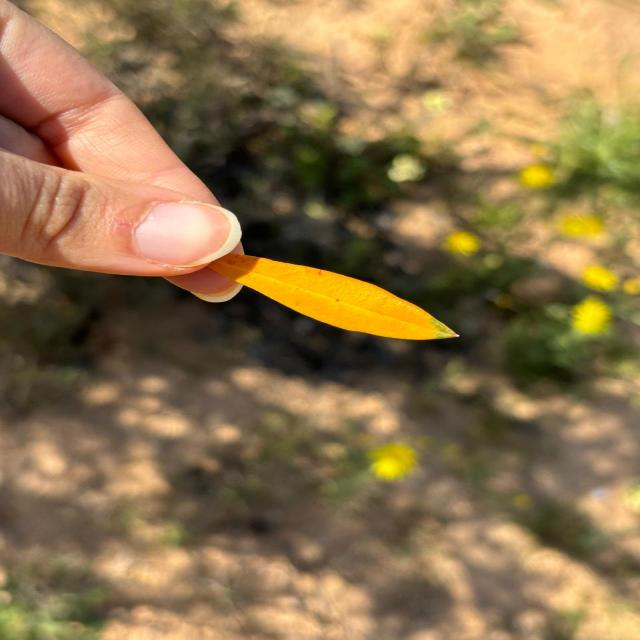Peacock Eye: (209, 254, 461, 342)
